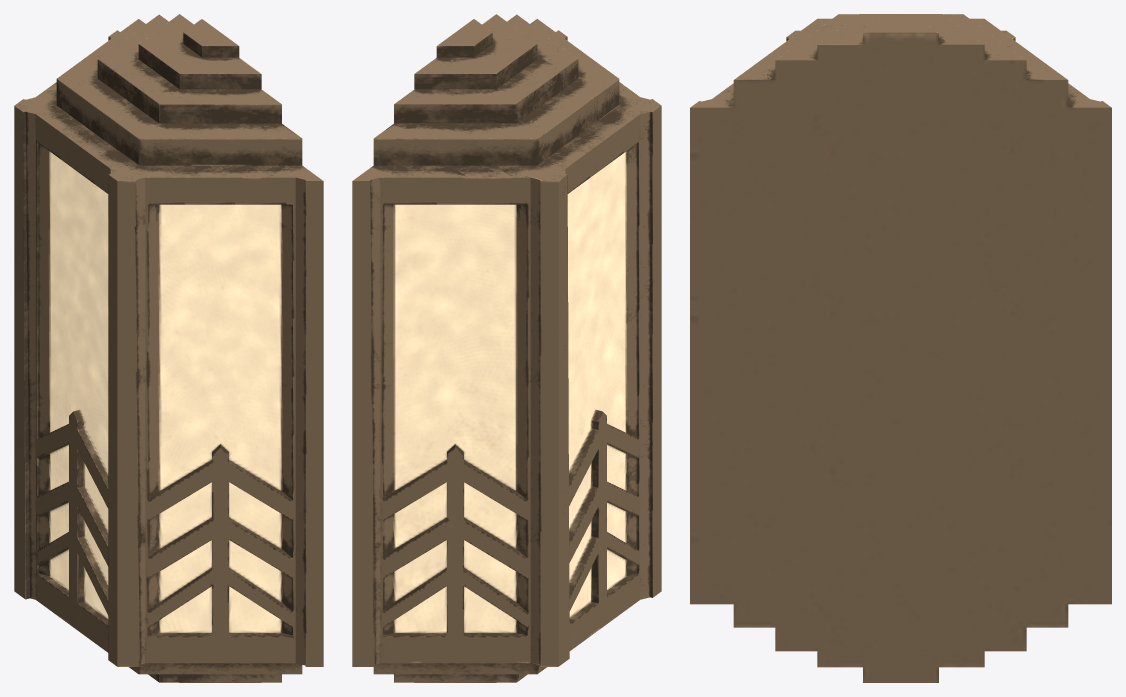
The model's file is puzzLight.glb.
3 renders of one model, left to right at view 1: azimuth 30°, elevation 25°; view 2: azimuth 150°, elevation 25°; view 3: azimuth 270°, elevation 25°, orthographic. The views are drawn at different scales.
Visible parts, largest first — view 1: TowerOfTerror_WallSconce v1; view 2: TowerOfTerror_WallSconce v1; view 3: TowerOfTerror_WallSconce v1.
Part boxes in pixels (box(x1,y1,x2,y2)): TowerOfTerror_WallSconce v1: box(14, 14, 323, 682); TowerOfTerror_WallSconce v1: box(352, 14, 661, 682); TowerOfTerror_WallSconce v1: box(690, 14, 1111, 682).
Size of the model in its own units: 21 by 82.5 by 48.5.
Materials: 1 (1 with a texture image).
